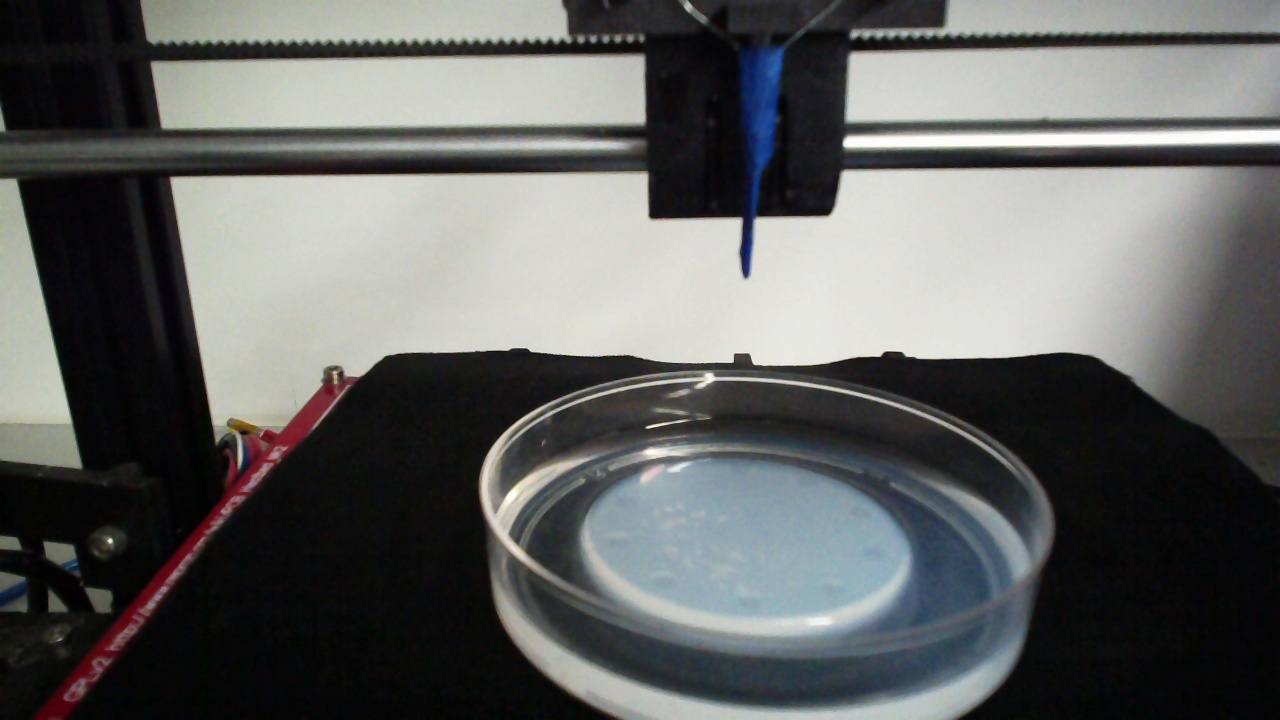groove: (648, 569, 680, 593), (602, 529, 631, 553), (733, 592, 764, 614), (846, 503, 878, 523), (860, 545, 890, 565), (792, 471, 820, 492), (817, 579, 845, 599), (612, 489, 640, 509)
needle: (740, 52, 783, 279)
